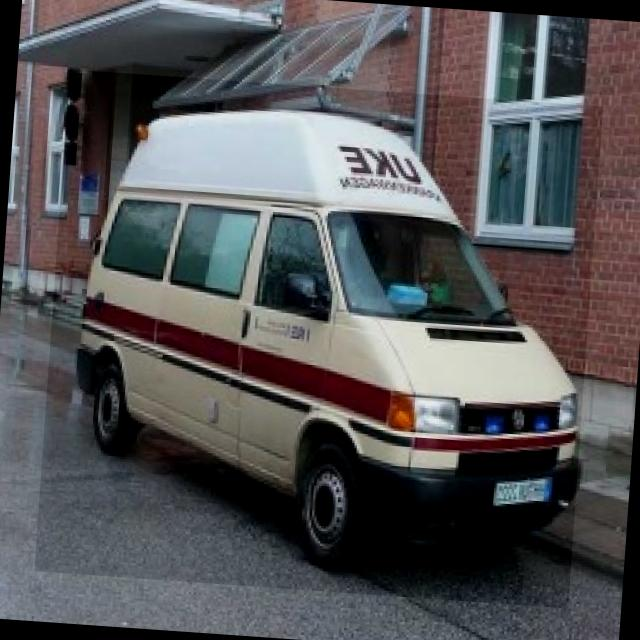ambulance: (34, 69, 602, 608)
